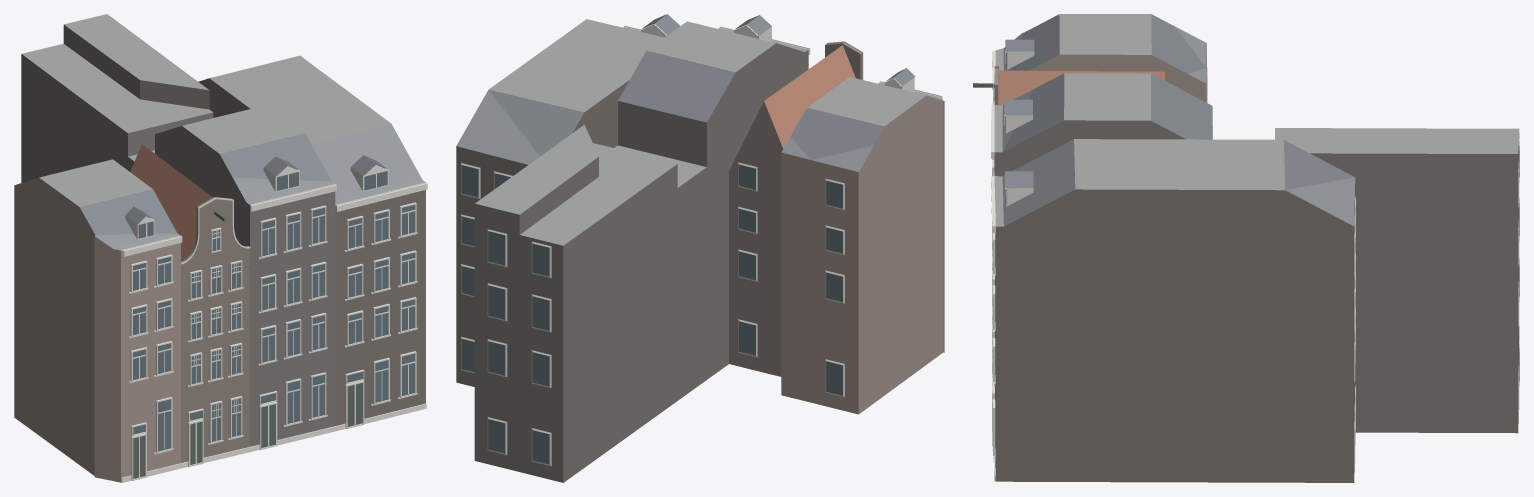
Rendered from chunk-face-bloemgracht-53-95-h1.glb.
3 views of the same model, side by side, from view 1: azimuth 30°, elevation 25°; view 2: azimuth 150°, elevation 25°; view 3: azimuth 270°, elevation 25° (orthographic). The views are drawn at different scales.
Visible parts, largest first — view 1: face-bloemgracht-53-95-h1; view 2: face-bloemgracht-53-95-h1; view 3: face-bloemgracht-53-95-h1.
Part boxes in pixels (box(x1,y1,x2,y2)): face-bloemgracht-53-95-h1: box(14, 14, 427, 482); face-bloemgracht-53-95-h1: box(456, 14, 944, 482); face-bloemgracht-53-95-h1: box(973, 14, 1519, 482).
Size of the model in its own units: 20.79 by 16.99 by 27.05.
